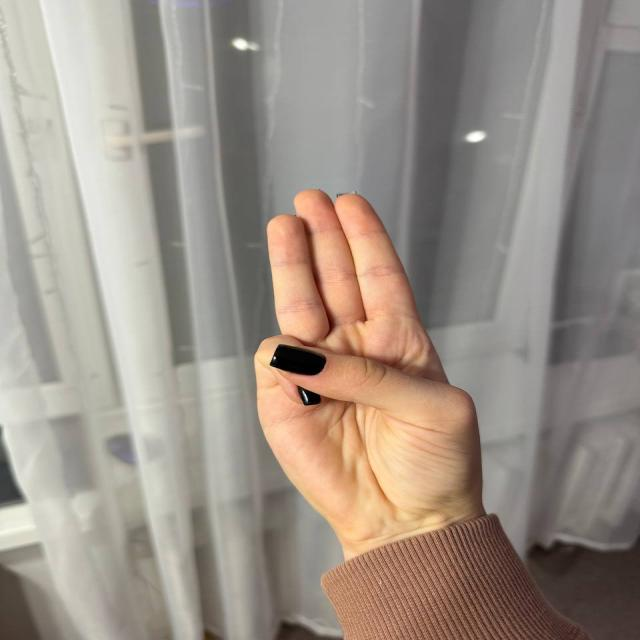sh: (206, 182, 506, 498)
